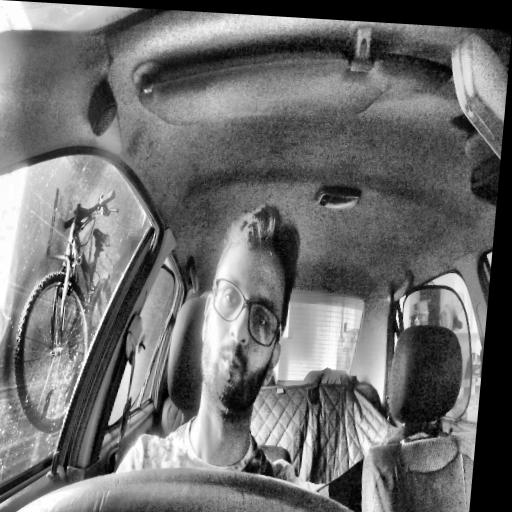awake: (193, 200, 302, 429)
